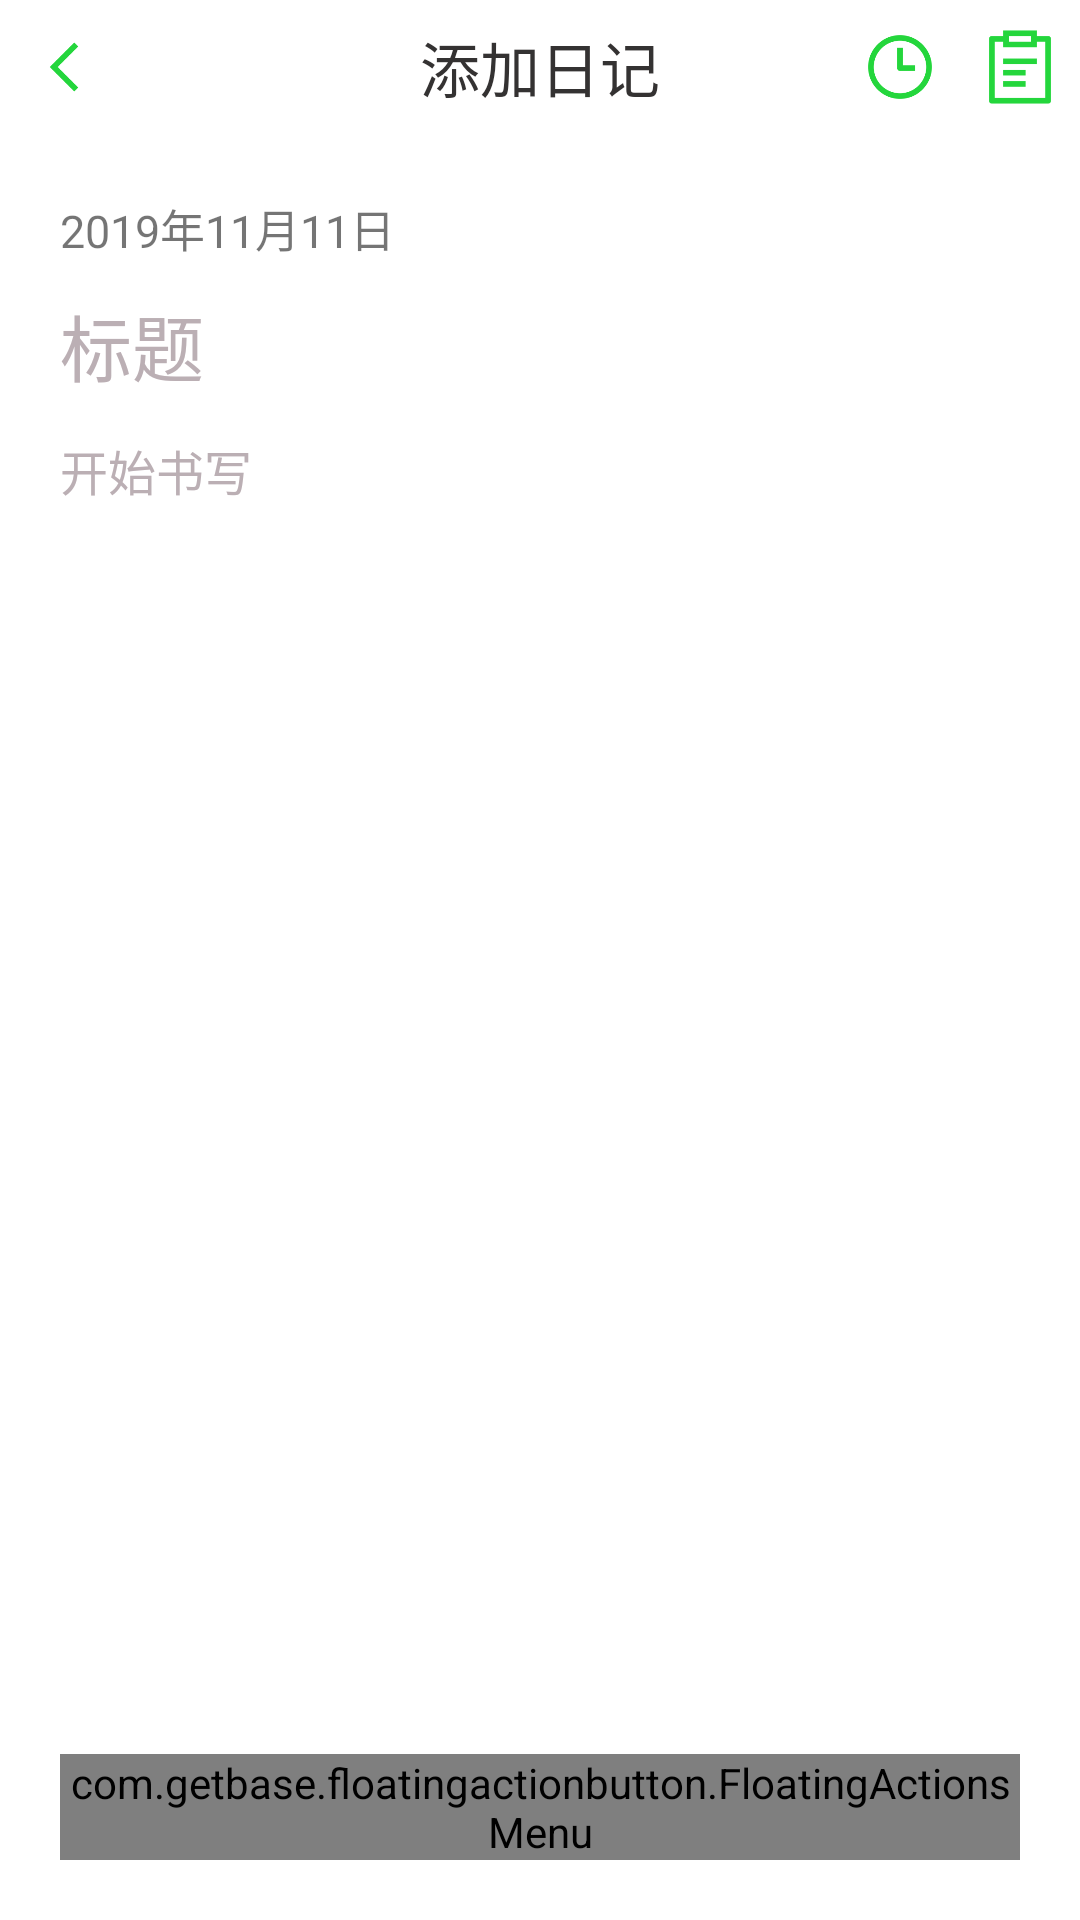

Icon bounding boxes for this 1080x1920 phone screenshot, format [left=x1, top=y1, right=x2, bottom=y2]:
arrow left: [left=50, top=42, right=78, bottom=92]
clock: [left=868, top=35, right=932, bottom=99]
